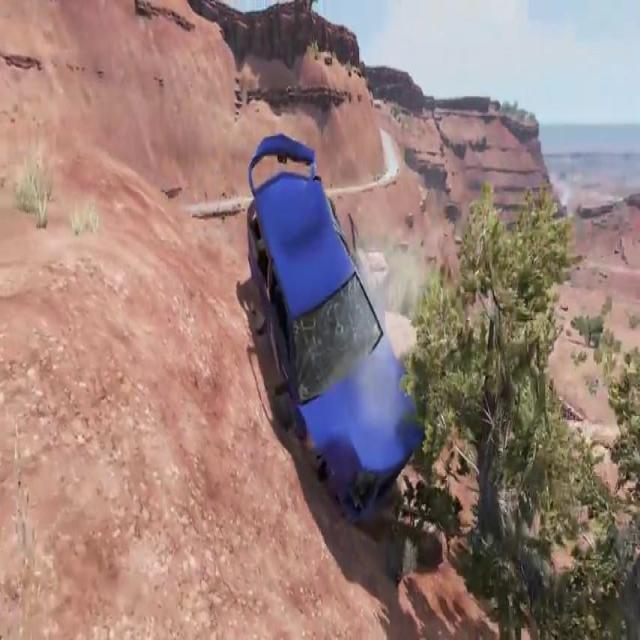severe: (241, 125, 432, 528)
